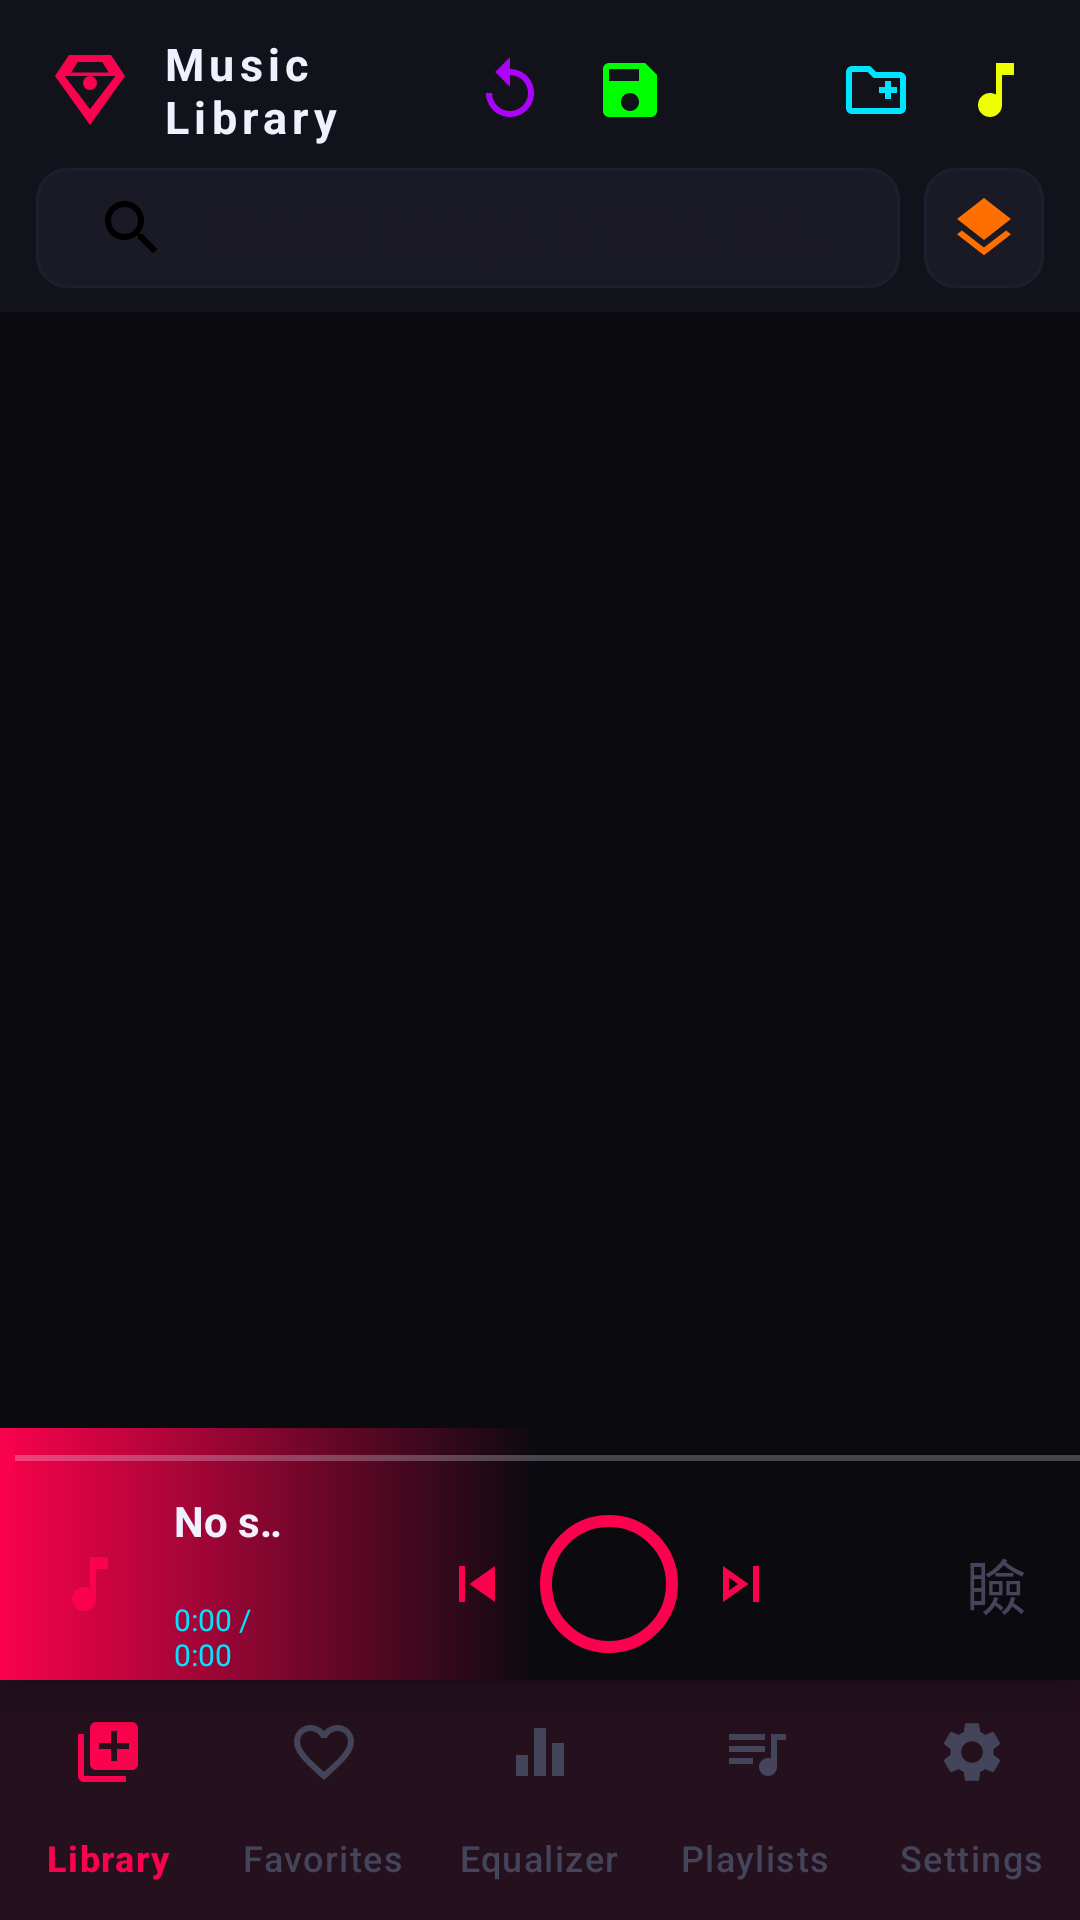

Point at icon controls on the screen. Image size 1080 × 1920, points as (x,y).
Add music files: (996,90)
Add music folder: (876,90)
Export library: (630,90)
Next: (741,1584)
Update metadata online: (510,87)
